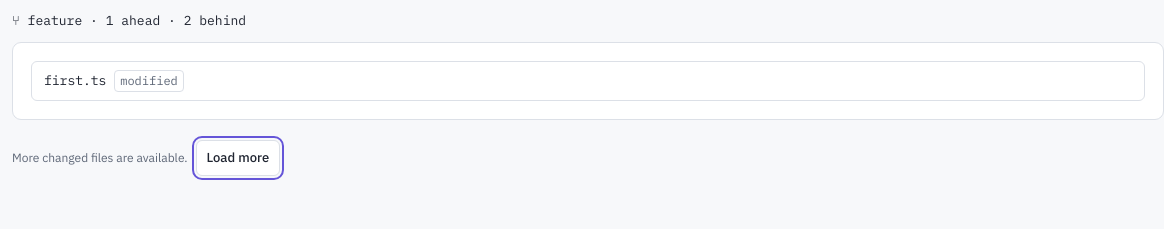
keeps loaded status items on next-page failure, retries only that page, and restores focus at the end
Click the button with aria-label "Load more changed files". click: (238, 158)
box: [196,140,280,176]
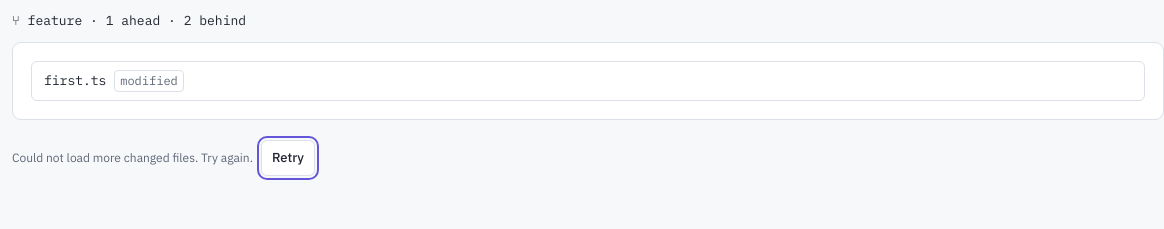
expect the button "first.ts modified" is shown: met, box [31,61,1145,101]
Click the button "Retry". click: (288, 158)
box: [261,140,315,176]
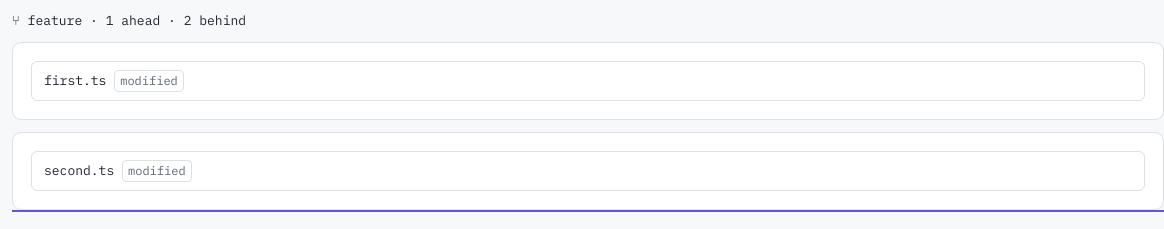
expect the message "Could not load more changed files. Try again." is gone: met
